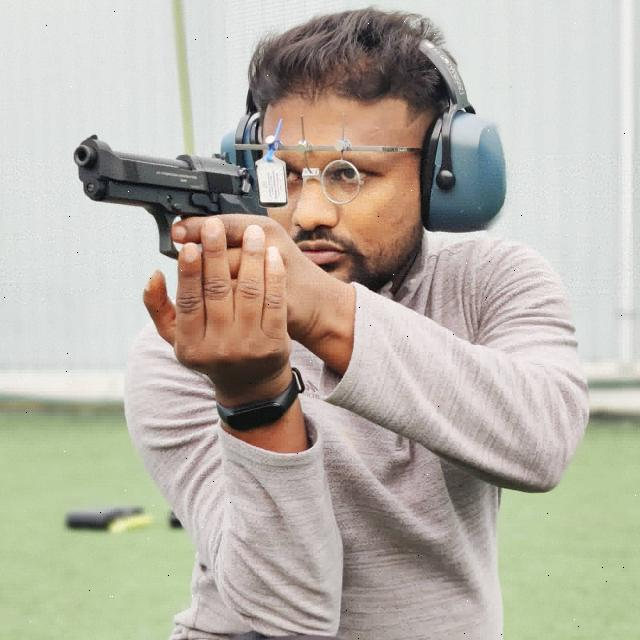gun: (50, 123, 272, 305)
